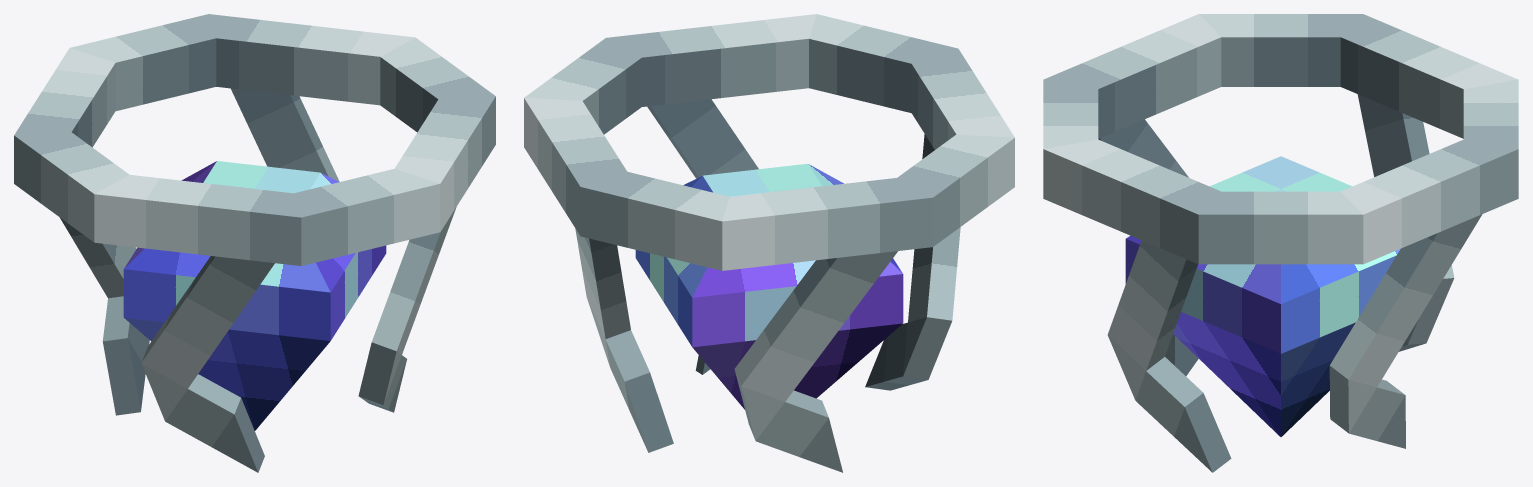
File: boss_trophy_council_crystal_outer.obj
The picture shows the model from 3 angles, left to right: view 1: azimuth 30°, elevation 25°; view 2: azimuth 150°, elevation 25°; view 3: azimuth 270°, elevation 25°; orthographic projection. The views are drawn at different scales.
Parts seen in each view (by area): view 1: CRYSTAL_OUTER_Cube.021; view 2: CRYSTAL_OUTER_Cube.021; view 3: CRYSTAL_OUTER_Cube.021.
Part boxes in pixels (x1,y1,x2,y2): CRYSTAL_OUTER_Cube.021: [14, 14, 495, 472]; CRYSTAL_OUTER_Cube.021: [524, 14, 1014, 472]; CRYSTAL_OUTER_Cube.021: [1043, 14, 1518, 472].
Size of the model in its own units: 0.5411 by 0.4062 by 0.5411.
